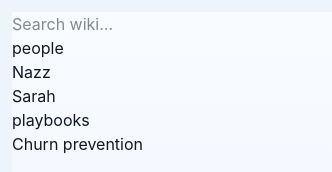
<WikiSidebar> — legacy catalog-grouping path › filters articles by the search query
Type "churn" into the search field with placeholder "Search wiki…" at point(136, 24), box [12,12,260,36]
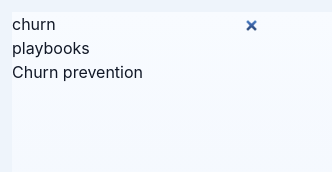
Expected: the link "Churn prevention" is shown, [12,62,143,82]
Expected: the link "Nazz" is gone
